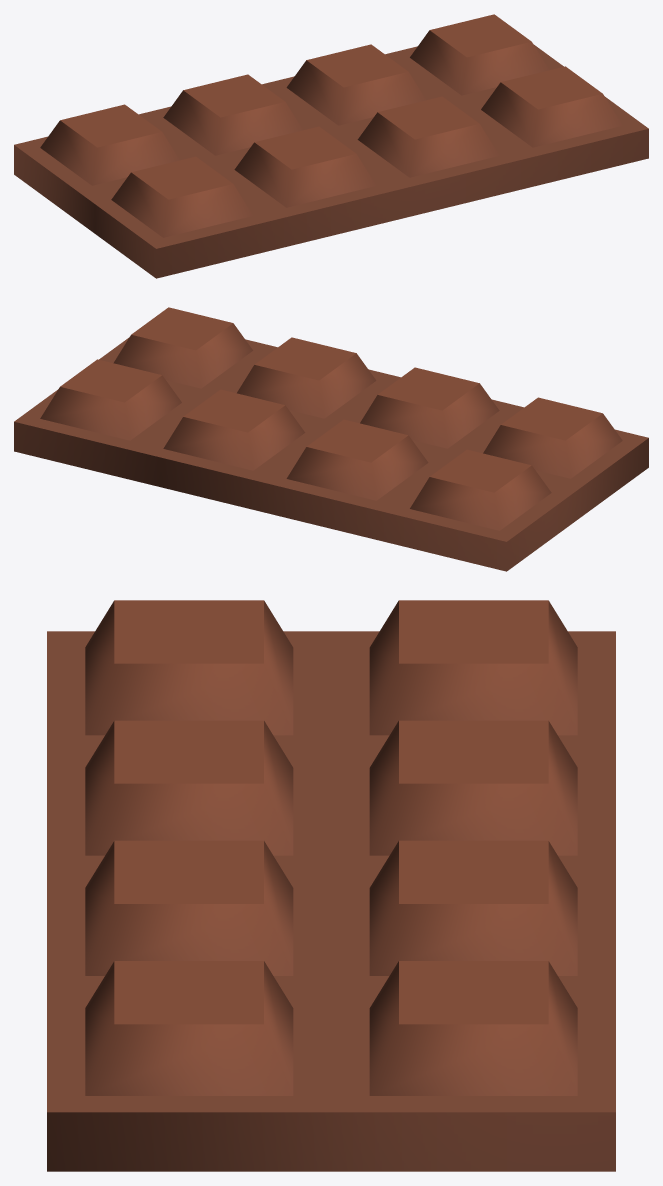
The model's file is chocolate.glb.
The picture shows the model from 3 angles, top to bottom: view 1: azimuth 30°, elevation 25°; view 2: azimuth 150°, elevation 25°; view 3: azimuth 270°, elevation 25°; orthographic projection. The views are drawn at different scales.
Parts seen in each view (by area): view 1: chocolate; view 2: chocolate; view 3: chocolate.
Part boxes in pixels (left/top/right/bottom): chocolate: left=14, top=14, right=648, bottom=278; chocolate: left=14, top=307, right=648, bottom=571; chocolate: left=47, top=600, right=615, bottom=1171.
Bounding box in the file's own units: 0.2924 × 0.0337 × 0.1462.
